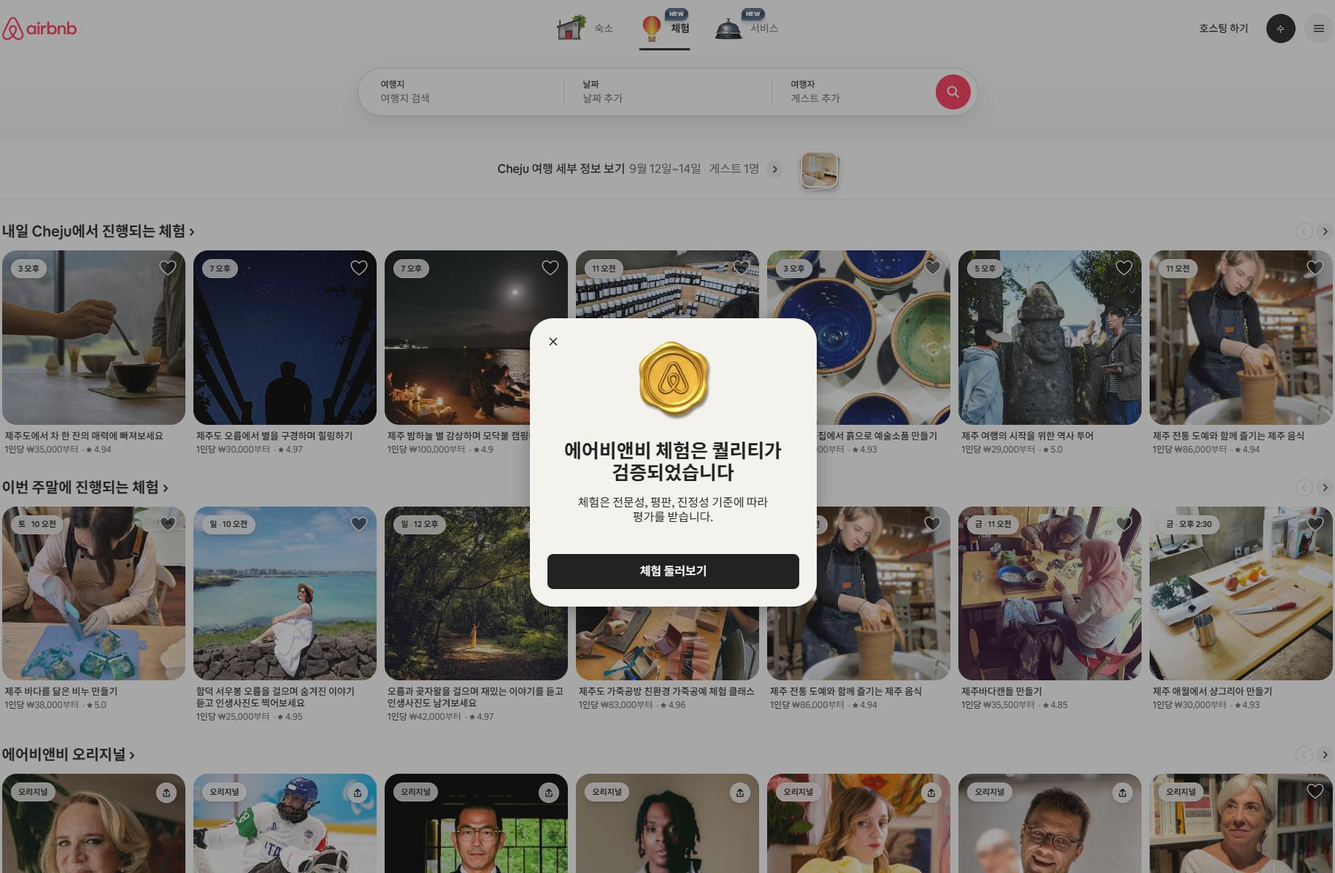button: (554, 555, 794, 589), (572, 73, 745, 112), (783, 75, 934, 112), (372, 72, 529, 106), (544, 12, 614, 44), (712, 5, 774, 41), (629, 159, 777, 174), (630, 9, 689, 45), (1203, 19, 1247, 38), (1265, 12, 1285, 39), (1302, 255, 1326, 274), (1114, 259, 1140, 276), (540, 258, 569, 273), (344, 783, 366, 802), (920, 785, 948, 798), (1307, 515, 1325, 534), (1307, 17, 1324, 37), (1297, 749, 1326, 760), (1113, 786, 1131, 803), (350, 259, 375, 271), (159, 786, 179, 800), (1112, 518, 1130, 533), (735, 259, 757, 271), (349, 513, 369, 526), (157, 515, 175, 529), (915, 515, 935, 527), (731, 786, 747, 800), (1303, 782, 1317, 797), (540, 785, 556, 798), (923, 260, 939, 271), (163, 262, 181, 271), (544, 341, 560, 348)
popup: (530, 320, 815, 603)
